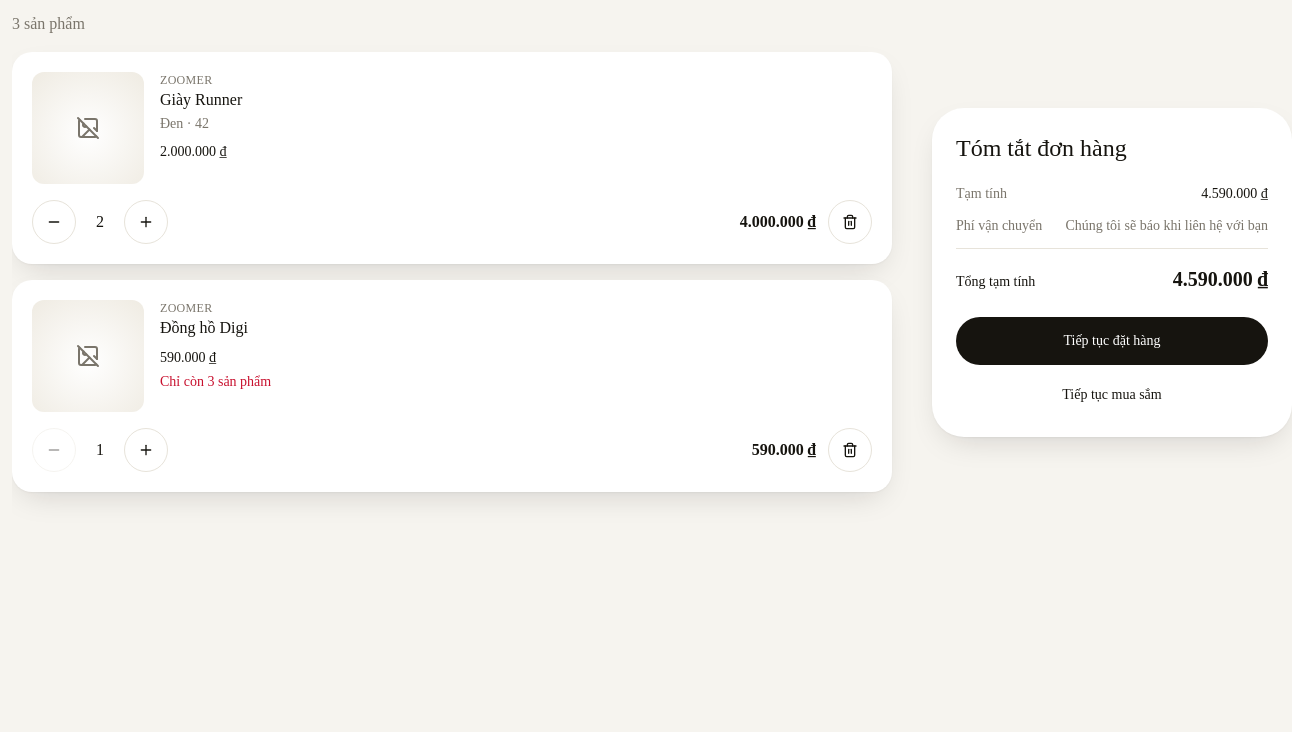
Test: totals and quantities › removes a line, and shows the empty state after the last one
This screenshot has width=1292, height=732.
Expected: the link "Giày Runner" is shown, [160,91,242,108]
Click the button named "Xóa Giày Runner khỏi giỏ hàng": (850, 222) [828,200,872,244]
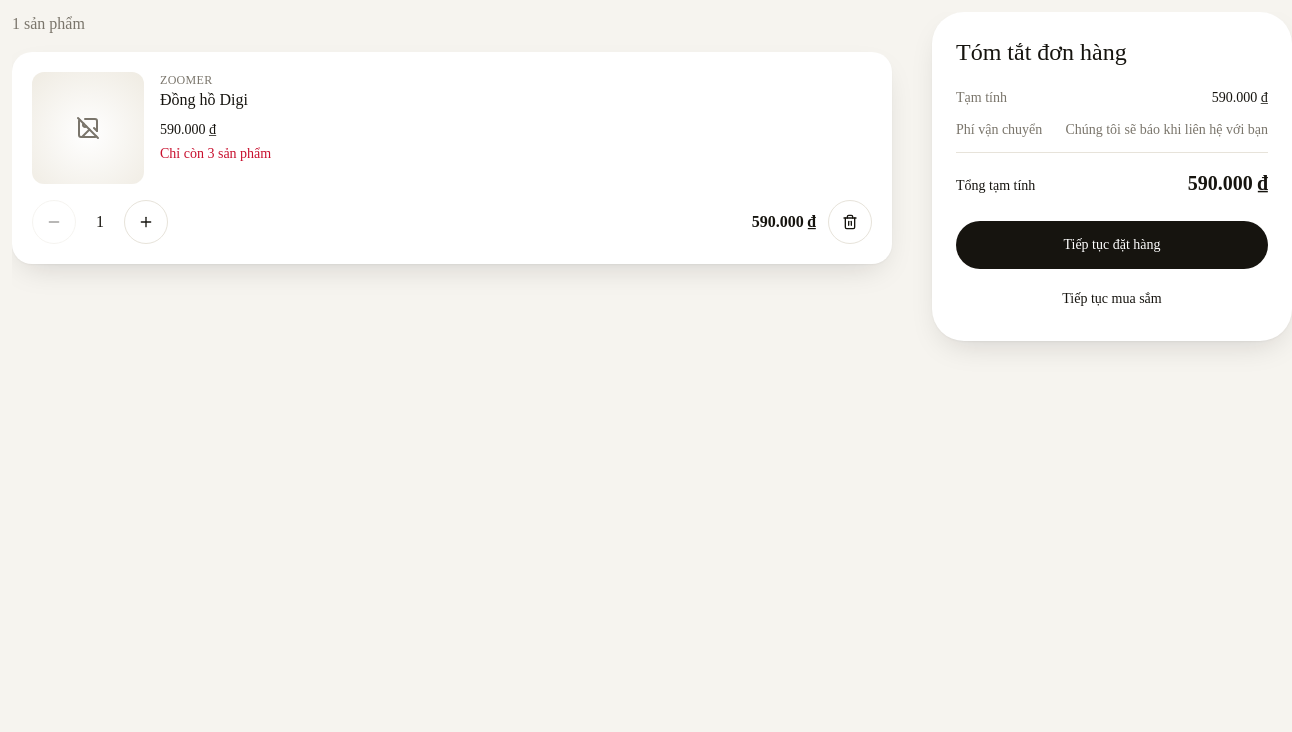
Result: the link "Giày Runner" is gone
Result: the text "590.000 ₫" is shown 4 times at [159,121,216,137]; [752,210,816,234]; [1212,88,1268,108]; [1188,169,1268,197]
Click the button named "Xóa Đồng hồ Digi khỏi giỏ hàng": (850, 222) [828,200,872,244]
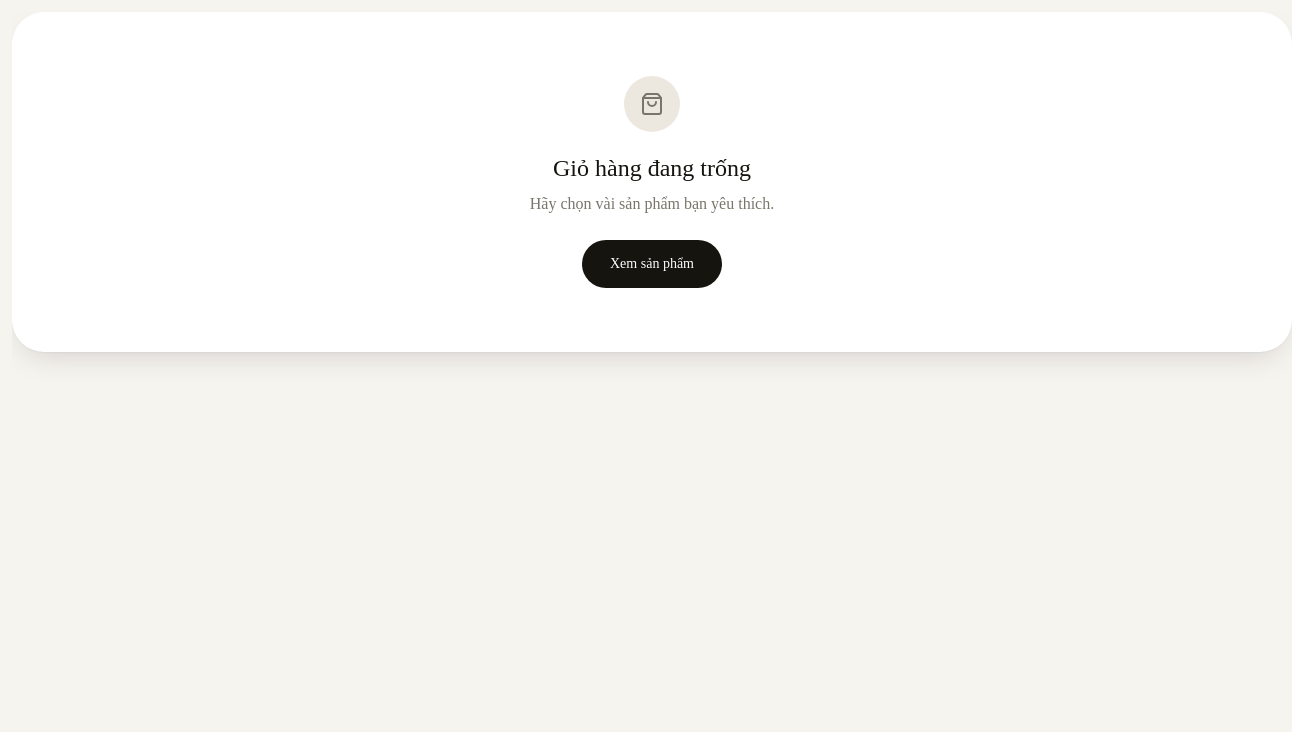
Result: the heading "Giỏ hàng đang trống" is shown at [553,155,751,181]
